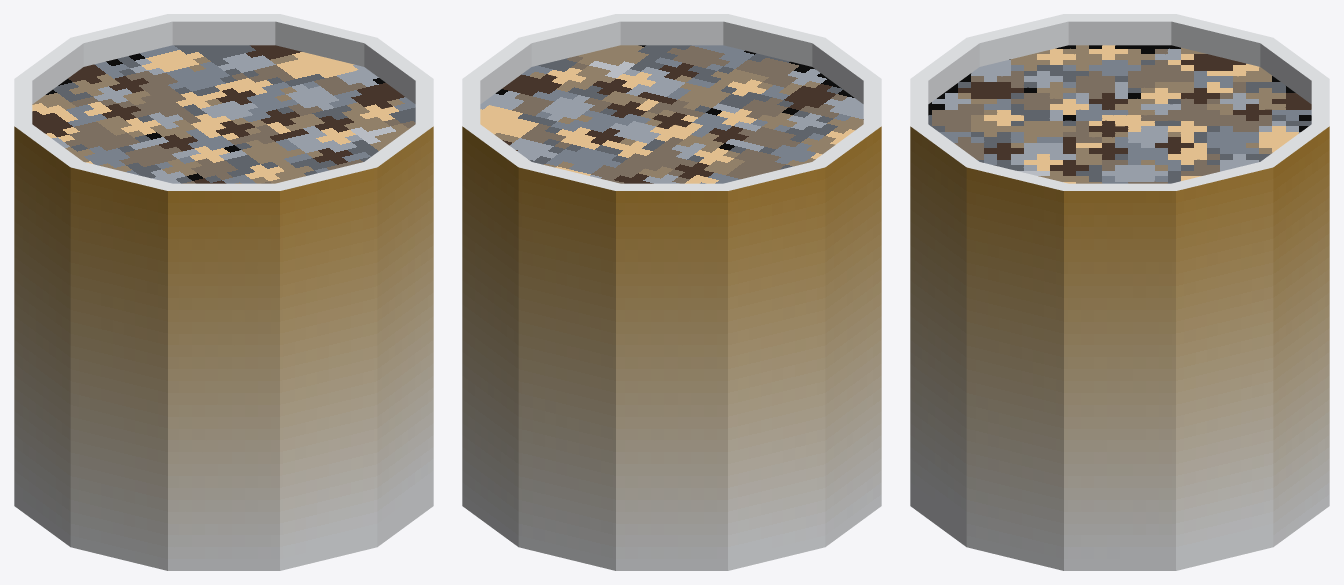
Rendered from large_pot_1.gltf.
The picture shows the model from 3 angles, left to right: view 1: azimuth 30°, elevation 25°; view 2: azimuth 150°, elevation 25°; view 3: azimuth 270°, elevation 25°; orthographic projection.
Parts seen in each view (by area): view 1: cylinder; view 2: cylinder; view 3: cylinder.
Part boxes in pixels (bbox=[...]): cylinder: bbox=[14, 14, 433, 570]; cylinder: bbox=[462, 14, 881, 570]; cylinder: bbox=[910, 14, 1329, 570].
Bounding box in the file's own units: 1 × 1 × 1.
1 material, 1 textured.
